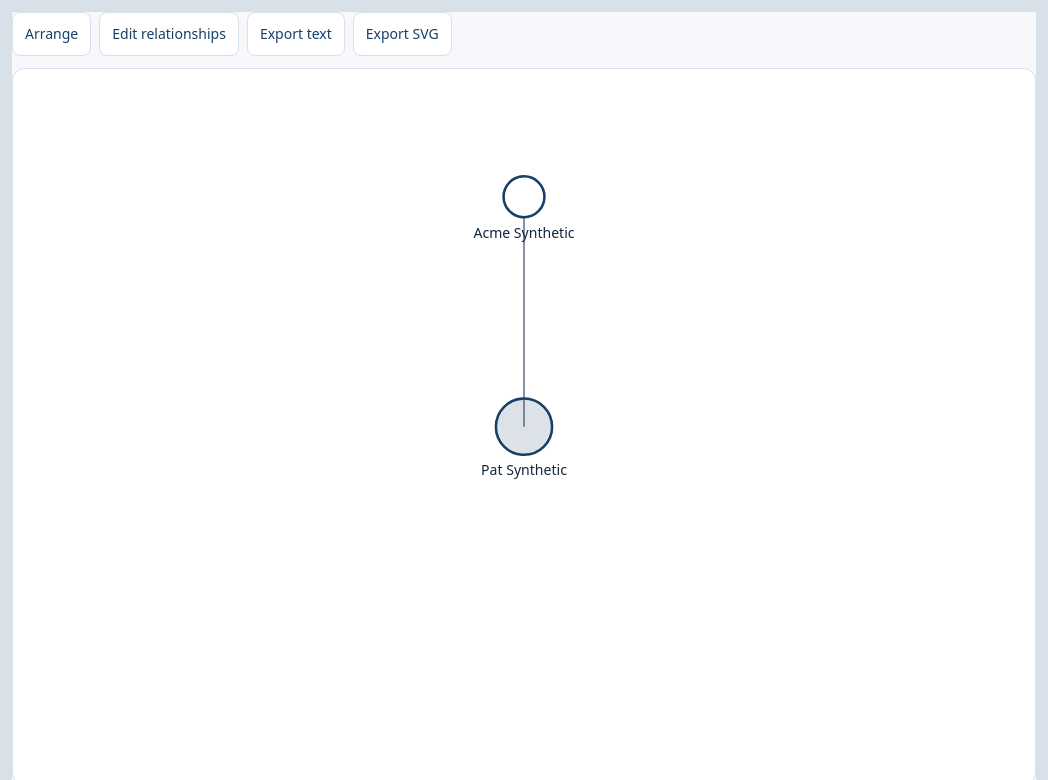
CanvasMapClient › shows a truthful conflict on create and does not treat it as success
Click the button with test id "canvas-relationship-edit-toggle" at (169, 34), box [99,12,239,56]
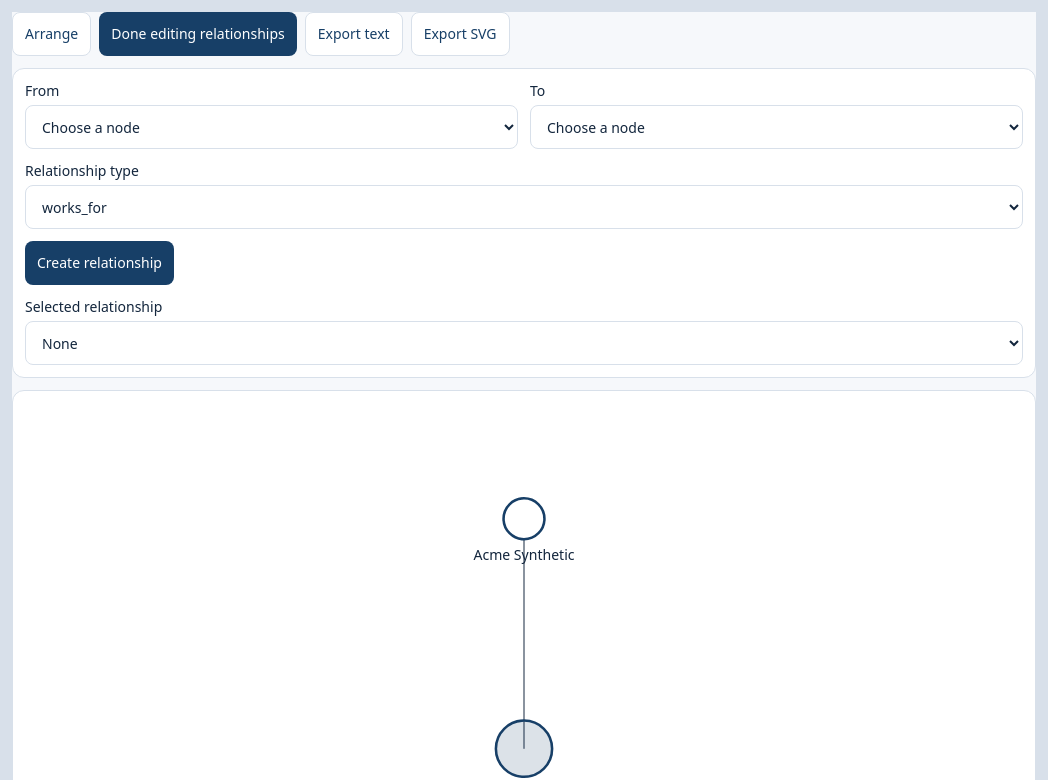
Select "Pat Synthetic" in the dropdown labelled "From" at (272, 127), box [25,105,518,149]
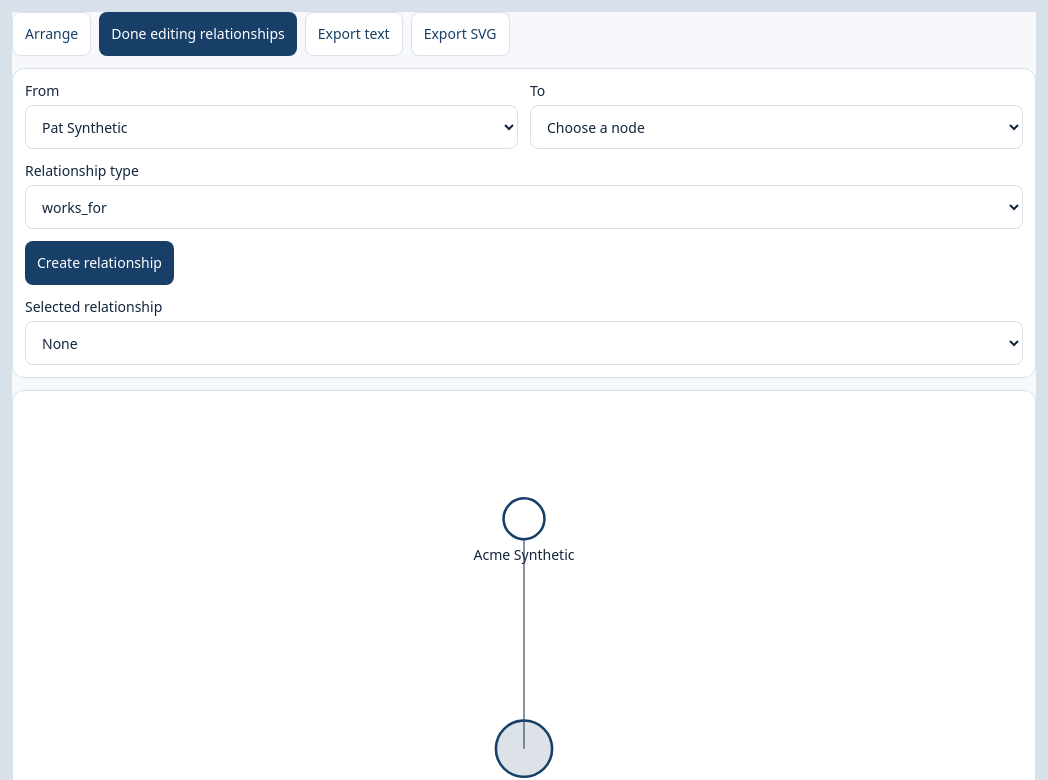
Select "Acme Synthetic" in the dropdown labelled "To" at (776, 127), box [530,105,1023,149]
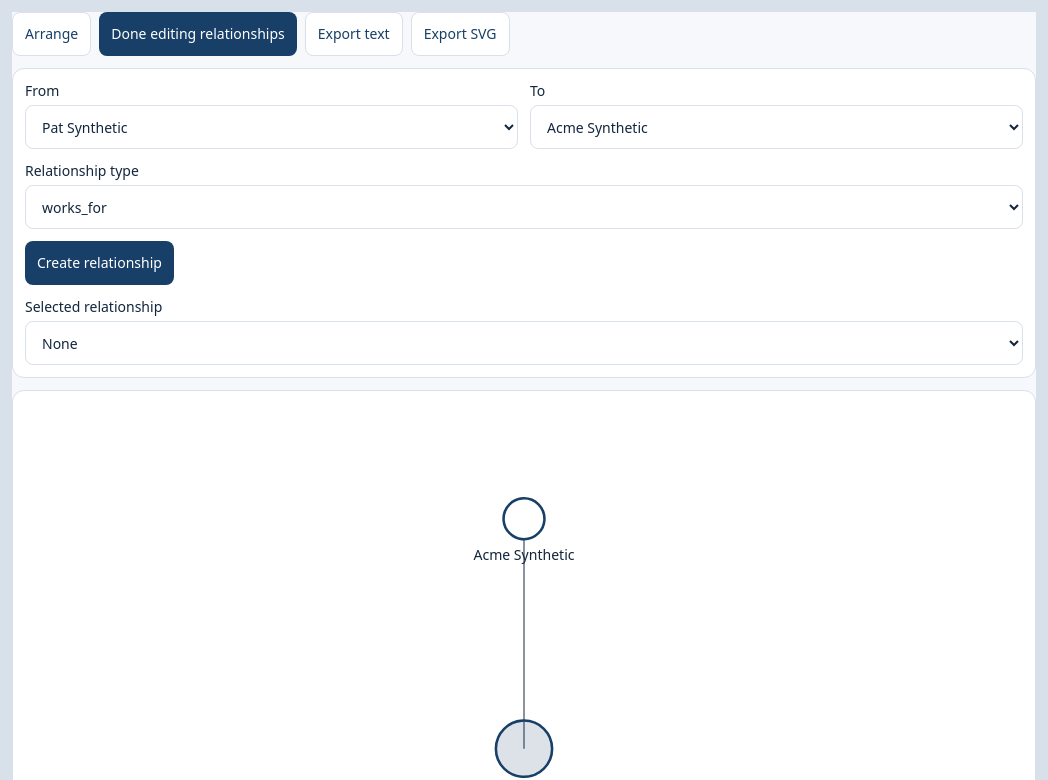
Select "reports_to" in the dropdown labelled "Relationship type" at (524, 207), box [25,185,1023,229]
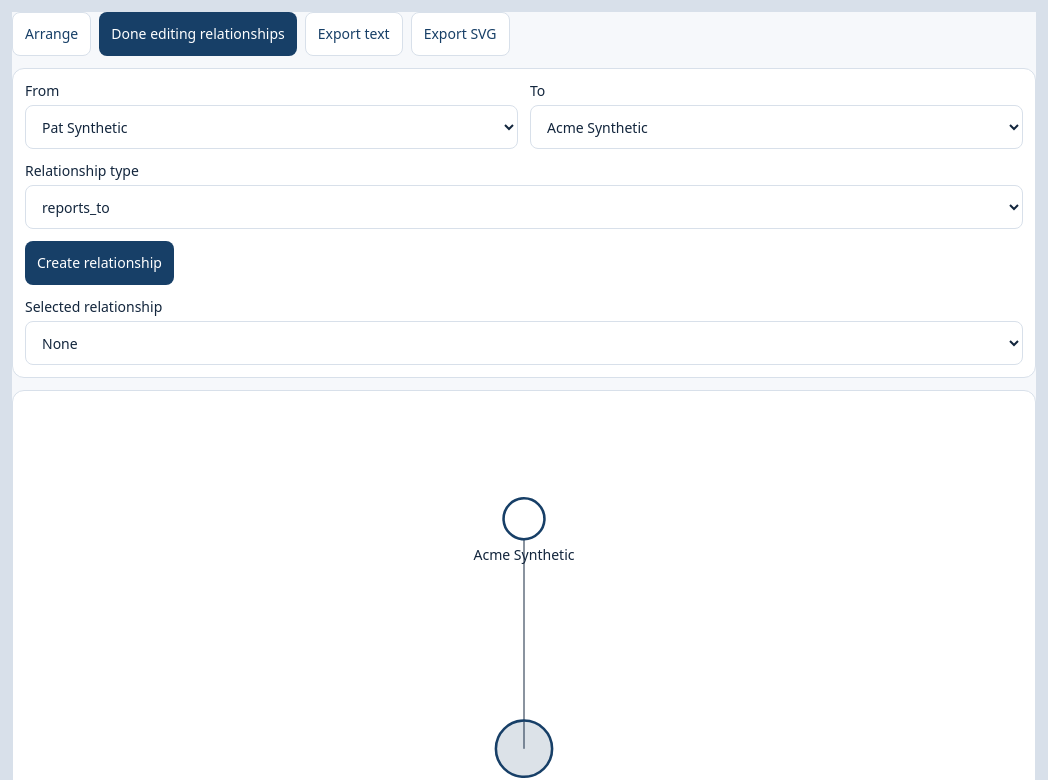
Click the button with test id "canvas-relationship-create-submit" at (99, 263), box [25,241,174,285]
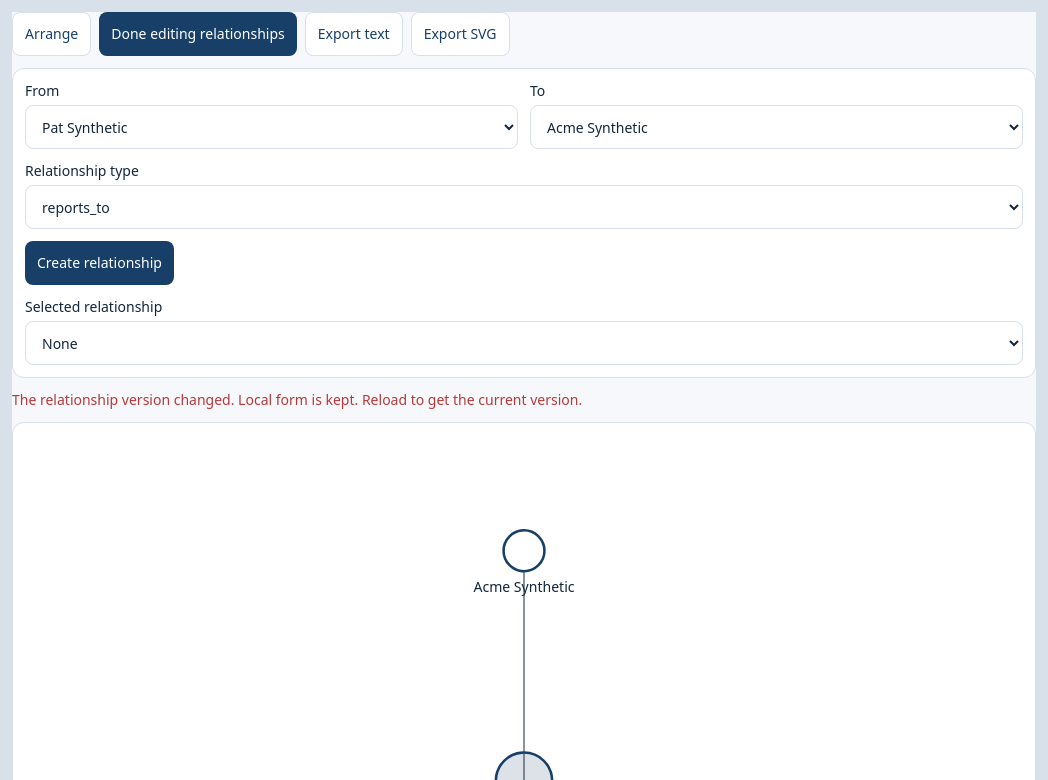
Check: the message with test id "canvas-relationship-conflict" shows "relationship version changed", box [12,390,582,409]
